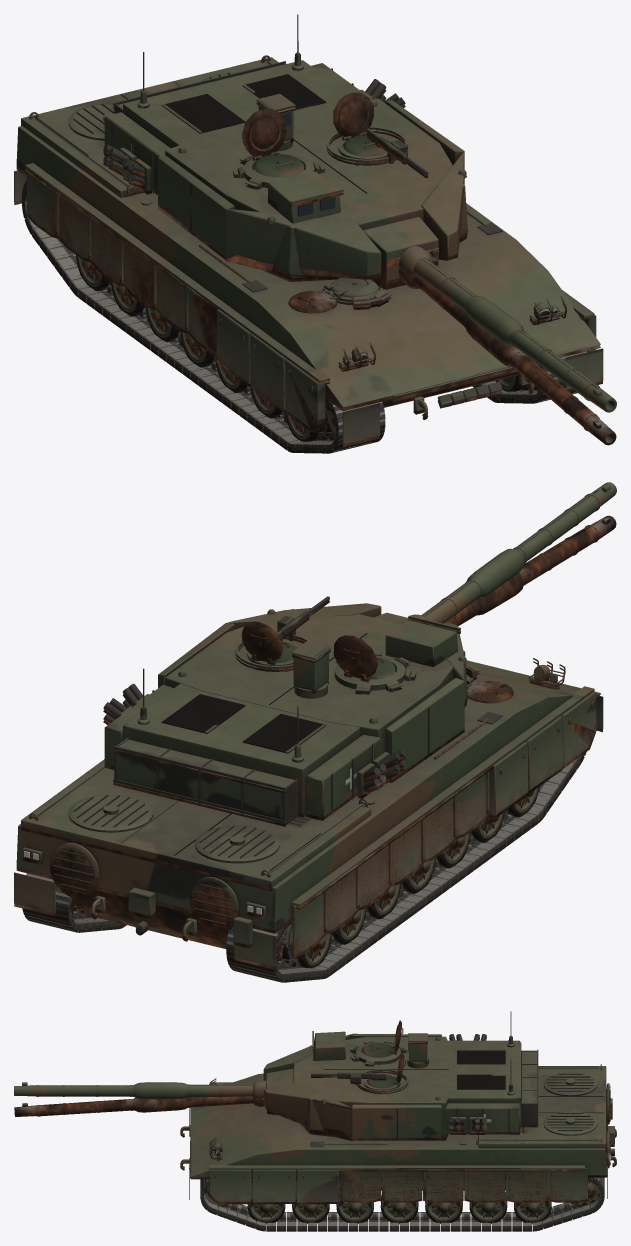
Rendered from leopard2a6.glb.
3 views of the same model, one above another, from view 1: azimuth 30°, elevation 25°; view 2: azimuth 150°, elevation 25°; view 3: azimuth 270°, elevation 25° (orthographic). The views are drawn at different scales.
Visible parts, largest first — view 1: hull_geo, turret_geo, hull_wreck, turret_wreck, gun_geo, track_R, hatch_lid_commander_geo, hatch_lid_driver_geo, hatch_lid_gunner_geo; view 2: hull_geo, turret_geo, hull_wreck, turret_wreck, track_R, gun_geo, track_L; view 3: hull_geo, turret_geo, hull_wreck, turret_wreck, track_L, gun_geo, roadwheel_L3_geo, roadwheel_L7_geo, roadwheel_L6_geo, roadwheel_L4_geo, roadwheel_L5_geo, hatch_lid_commander_geo (+2 smaller).
Part boxes in pixels (x1=…): hull_geo: x1=14, y1=55, x2=603, y2=444; turret_geo: x1=103, y1=14, x2=467, y2=278; hull_wreck: x1=14, y1=58, x2=602, y2=453; turret_wreck: x1=103, y1=41, x2=616, y2=445; gun_geo: x1=363, y1=216, x2=616, y2=412; track_R: x1=21, y1=181, x2=385, y2=450; hatch_lid_commander_geo: x1=253, y1=151, x2=304, y2=177; hatch_lid_driver_geo: x1=324, y1=277, x2=379, y2=297; hatch_lid_gunner_geo: x1=342, y1=131, x2=387, y2=156; hull_geo: x1=14, y1=658, x2=603, y2=967; turret_geo: x1=103, y1=596, x2=467, y2=823; hull_wreck: x1=14, y1=661, x2=602, y2=982; turret_wreck: x1=103, y1=515, x2=616, y2=826; track_R: x1=226, y1=754, x2=583, y2=979; gun_geo: x1=374, y1=482, x2=616, y2=624; track_L: x1=26, y1=873, x2=122, y2=929; hull_geo: x1=180, y1=1064, x2=616, y2=1202; turret_geo: x1=263, y1=1011, x2=538, y2=1138; hull_wreck: x1=180, y1=1069, x2=616, y2=1231; turret_wreck: x1=14, y1=1016, x2=538, y2=1141; track_L: x1=200, y1=1177, x2=604, y2=1229; gun_geo: x1=14, y1=1068, x2=293, y2=1099; roadwheel_L3_geo: x1=336, y1=1189, x2=373, y2=1221; roadwheel_L7_geo: x1=514, y1=1187, x2=551, y2=1221; roadwheel_L6_geo: x1=469, y1=1191, x2=507, y2=1221; roadwheel_L4_geo: x1=381, y1=1195, x2=418, y2=1221; roadwheel_L5_geo: x1=425, y1=1201, x2=462, y2=1221; hatch_lid_commander_geo: x1=362, y1=1042, x2=396, y2=1057.
Size of what is drawn, in the model's own units: 3.83 by 3.2 by 11.15.
Materials: 6 (4 with a texture image).
